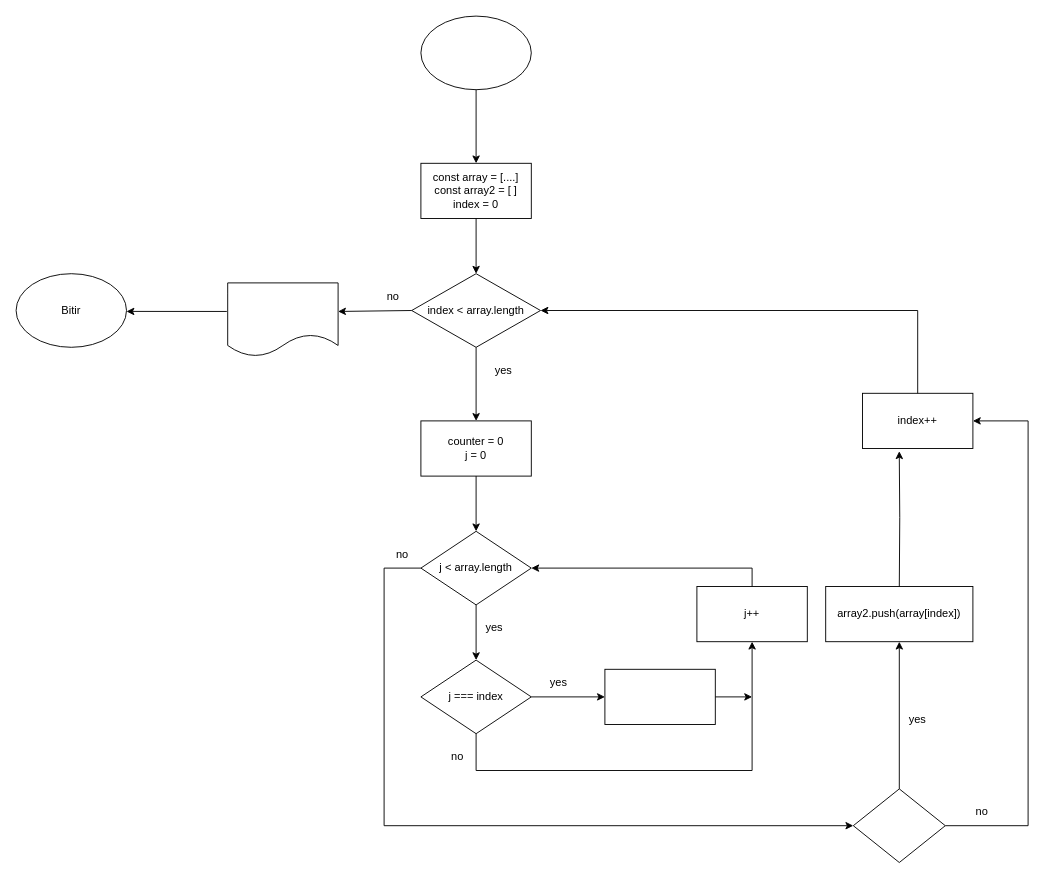
The diagram is 1052 pixels wide and 879 high, and some of its shapes have lost their labels. Here are the shapes that lost their labels. From the top down, the centre of each, then its label:
(475,52): Basla
(282,319): array2[0]
(659,696): counter++
(898,825): counter === 2
